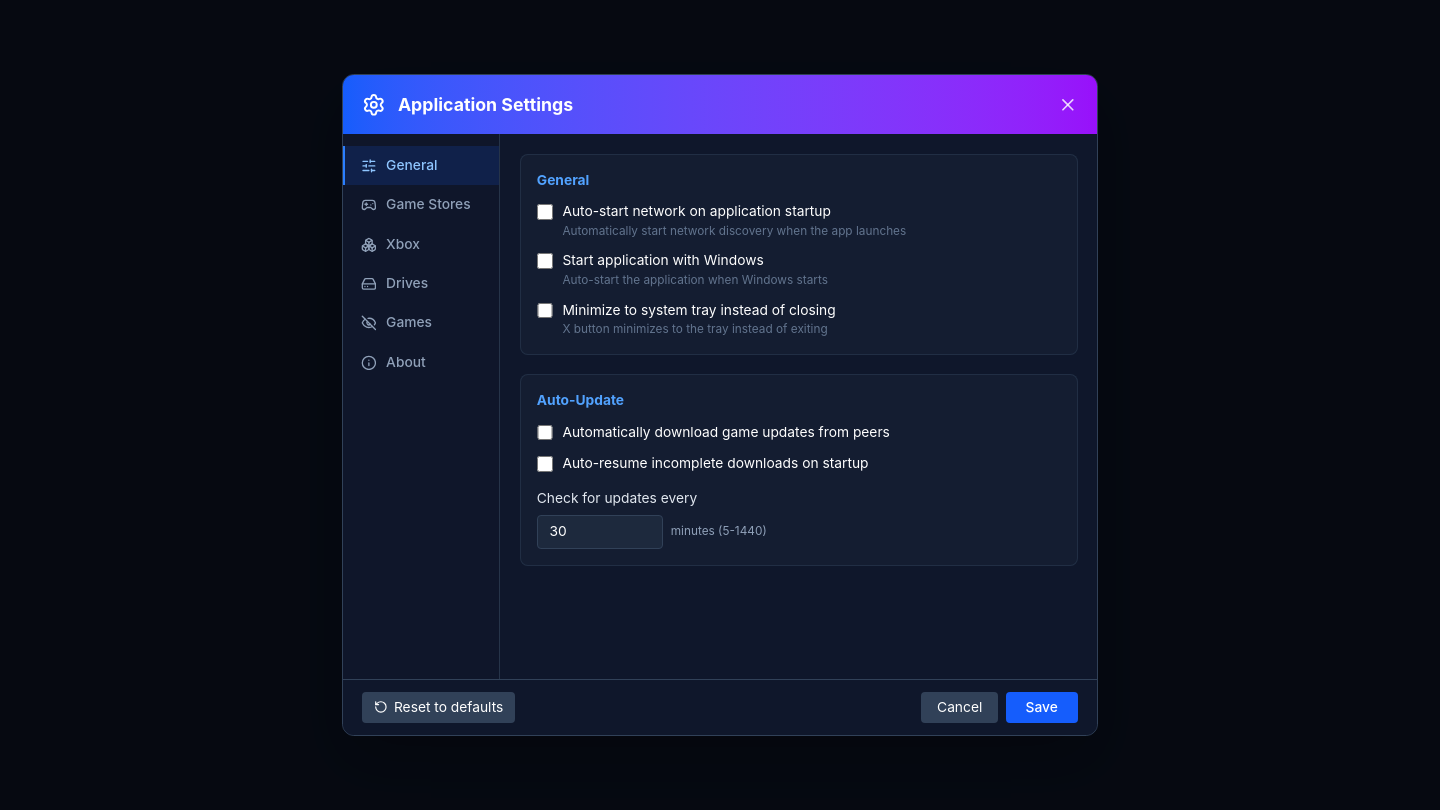
Test: SettingsModal › renders the tab rail and switches sections when a tab is clicked
The width and height of the screenshot is (1440, 810).
Expected: the heading "Application Settings" is shown, [398,91,573,118]
Expected: the button "General" is shown, [343,146,499,185]
Click the button "Game Stores": (421, 205) [343,185,499,225]
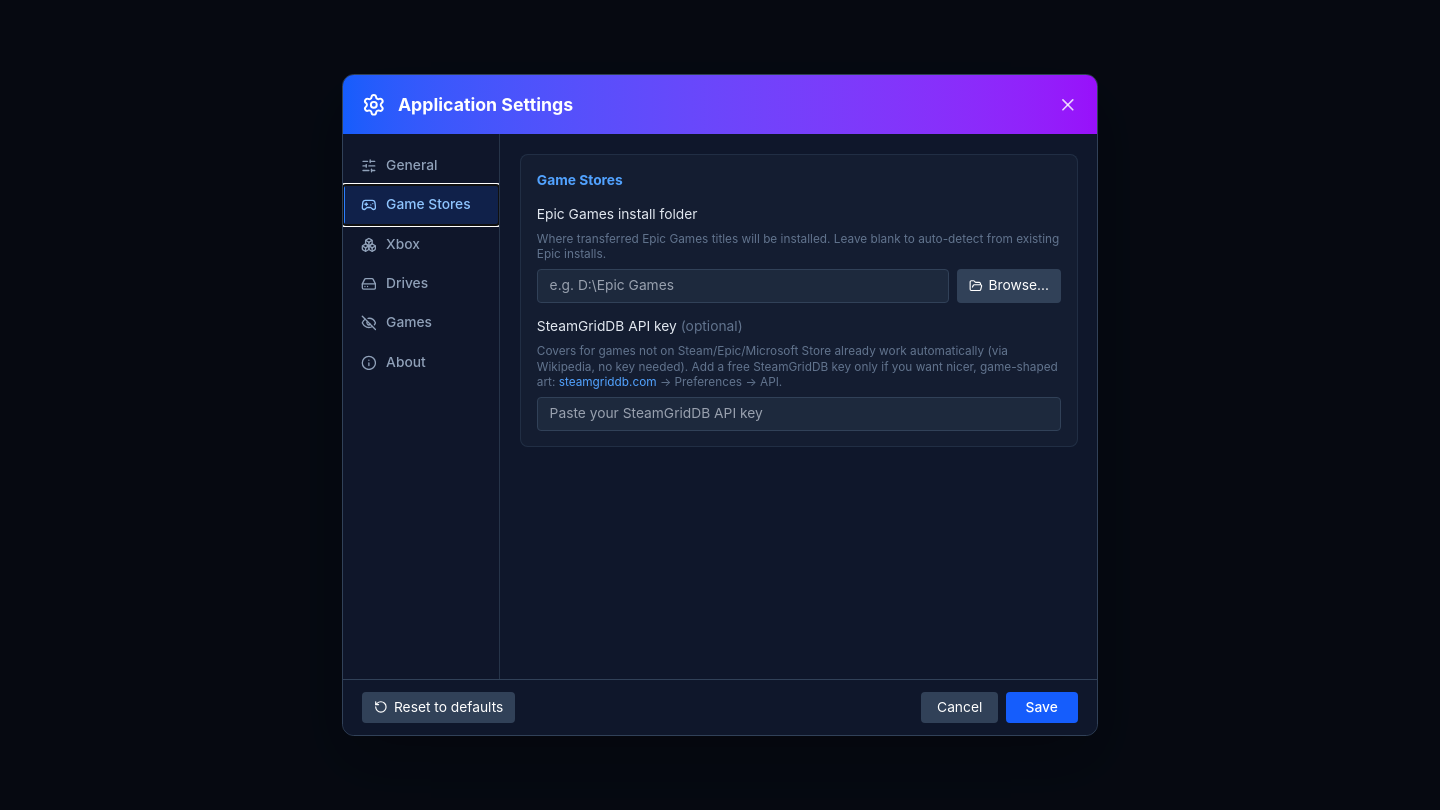
Result: the heading "Game Stores" is shown at [537,172,623,188]
Click the button "Drives": (421, 284) [343,264,499,304]
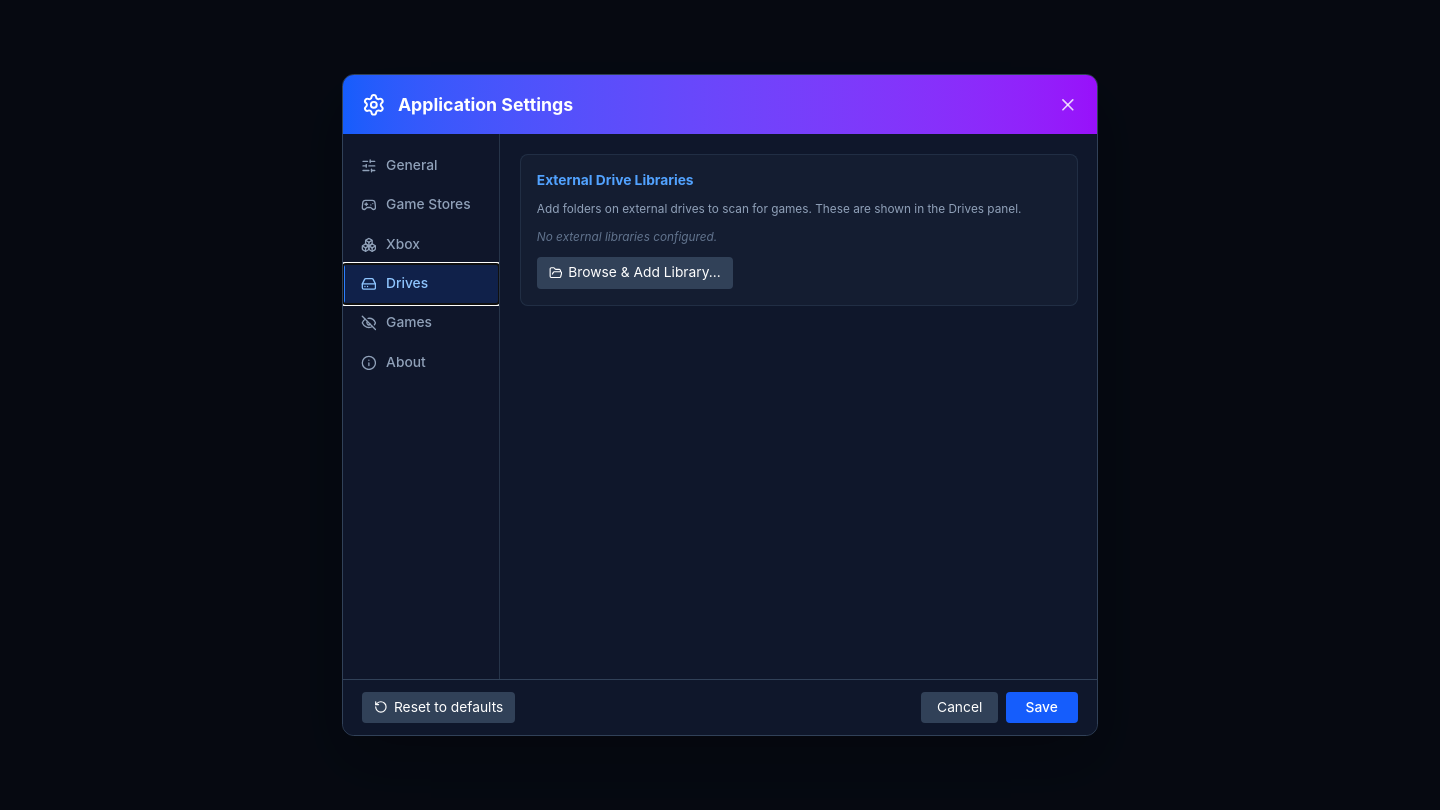
Result: the heading "External Drive Libraries" is shown at [537,172,694,188]
Click the button "Games": (421, 323) [343,304,499,343]
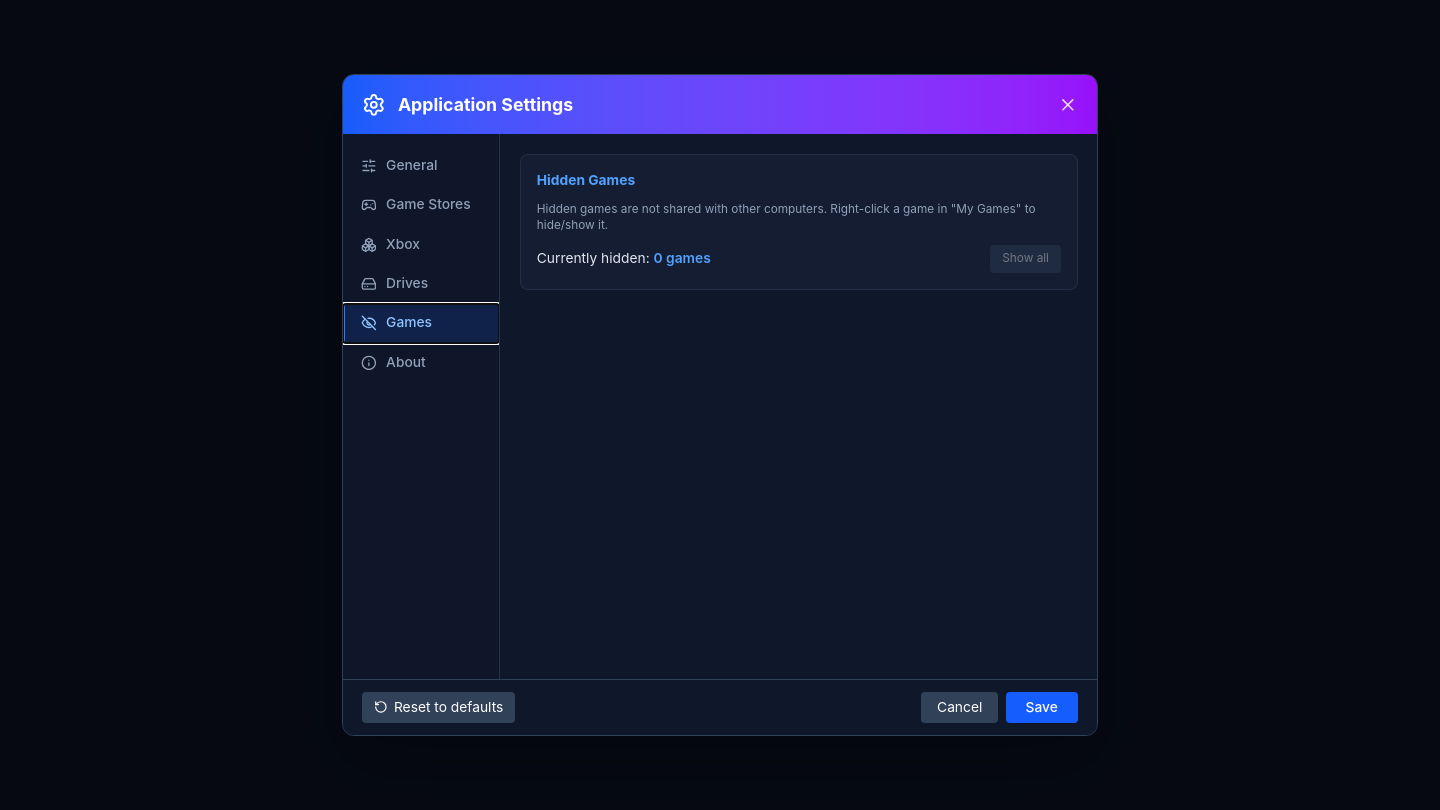
Result: the heading "Hidden Games" is shown at [537,172,635,188]
